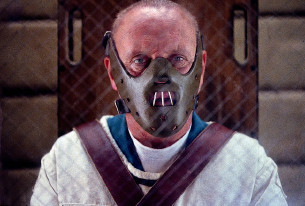face_mask: (119, 15, 199, 136)
